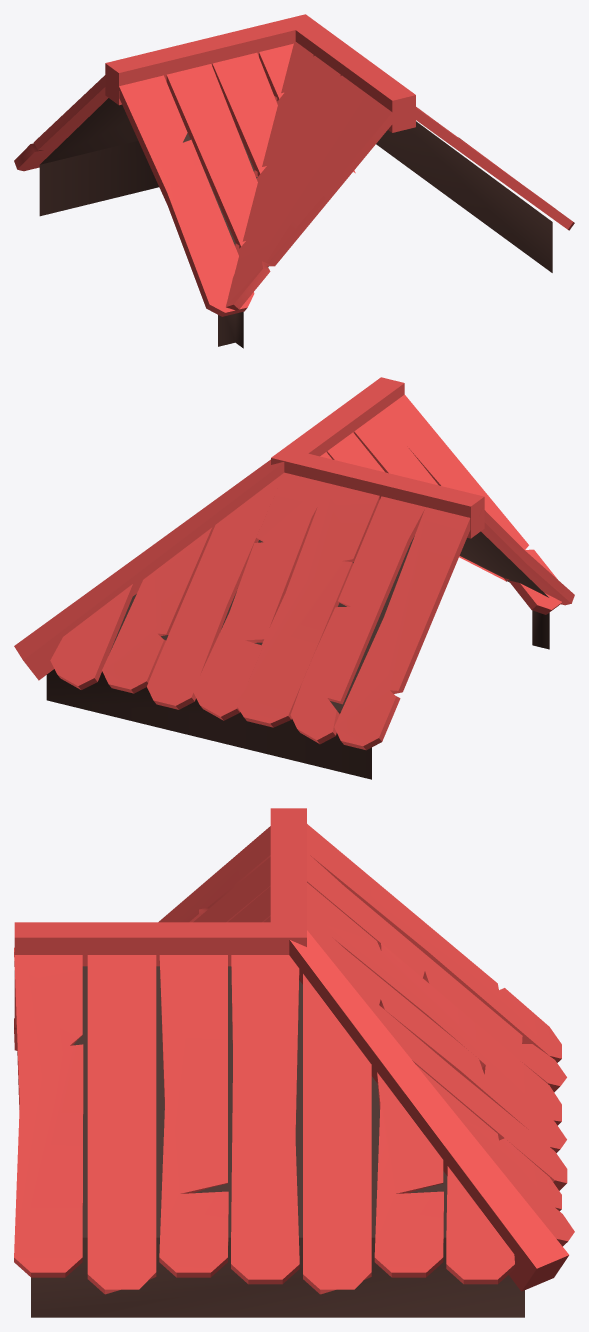
Rendered from Building_Angle_Roof_002.glb.
The picture shows the model from 3 angles, top to bottom: view 1: azimuth 30°, elevation 25°; view 2: azimuth 150°, elevation 25°; view 3: azimuth 270°, elevation 25°; orthographic projection. The views are drawn at different scales.
Visible parts, largest first — view 1: Building_Angle_Roof_002; view 2: Building_Angle_Roof_002; view 3: Building_Angle_Roof_002.
Part boxes in pixels (bbox=[...]): Building_Angle_Roof_002: bbox=[14, 14, 574, 348]; Building_Angle_Roof_002: bbox=[14, 377, 574, 779]; Building_Angle_Roof_002: bbox=[14, 808, 574, 1317].
Bounding box in the file's own units: 7.88 × 4.38 × 7.73.
Materials: 1 (1 with a texture image).
